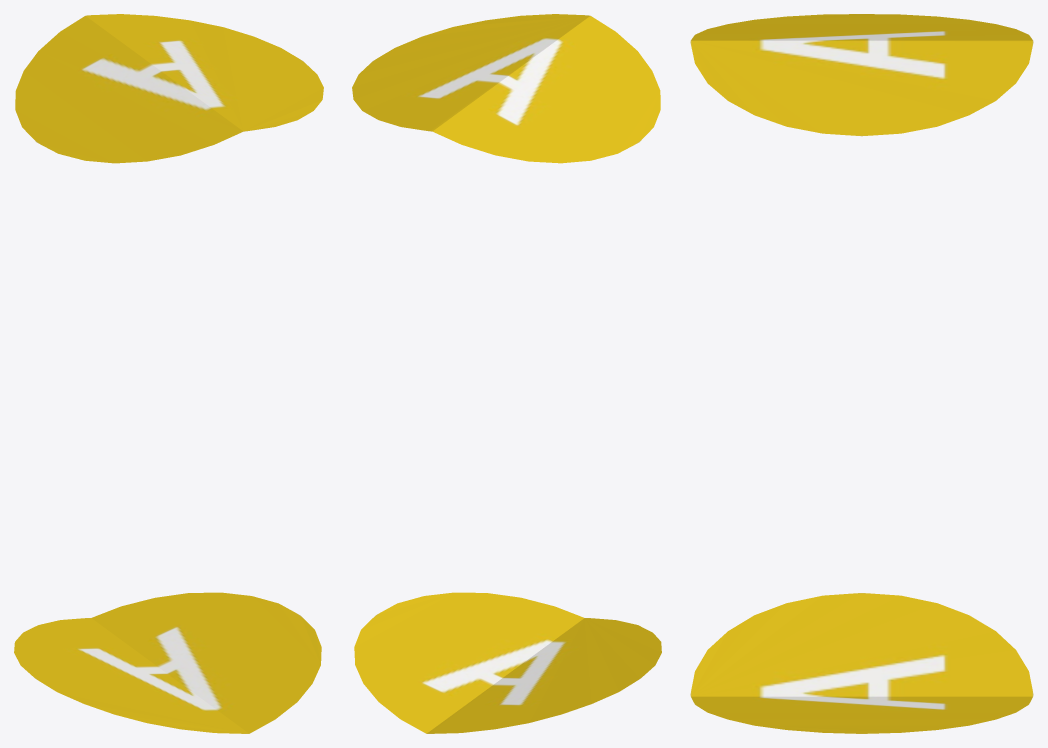
File: mp-01066-geode.glb
3 views of the same model, side by side, from view 1: azimuth 30°, elevation 25°; view 2: azimuth 150°, elevation 25°; view 3: azimuth 270°, elevation 25° (orthographic). The views are drawn at different scales.
Visible parts, largest first — view 1: Node; view 2: Node; view 3: Node.
Part boxes in pixels (bbox=[...]): Node: bbox=[14, 14, 323, 733]; Node: bbox=[352, 14, 661, 733]; Node: bbox=[690, 14, 1033, 733].
Bounding box in the file's own units: 0.1458 × 0.3145 × 0.1498.
1 material, 1 textured.
